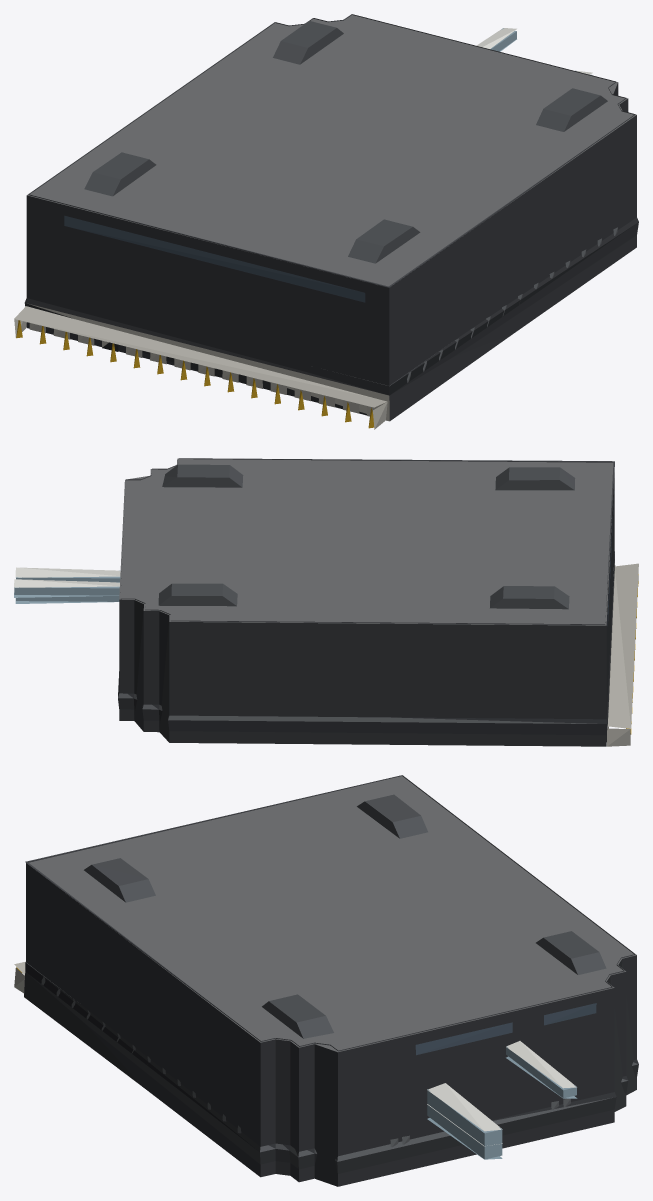
The model's file is ziggo-dome.lod2.glb.
3 renders of one model, top to bottom at view 1: azimuth 30°, elevation 25°; view 2: azimuth 150°, elevation 25°; view 3: azimuth 270°, elevation 25°, orthographic. The views are drawn at different scales.
Visible parts, largest first — view 1: lod2; view 2: lod2; view 3: lod2.
Part boxes in pixels (<box>): lod2: <box>14,14,638,429</box>; lod2: <box>14,458,638,746</box>; lod2: <box>14,775,638,1186</box>.
Size of the model in its own units: 155 by 34.1 by 132.
